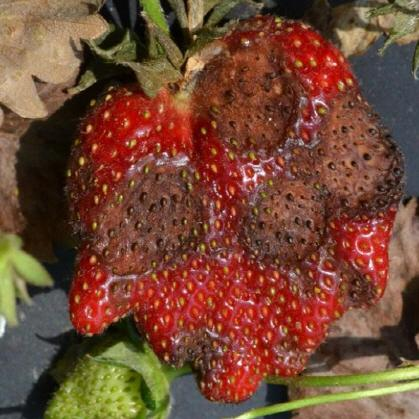Anthracnose Fruit Rot: (64, 13, 409, 396)
